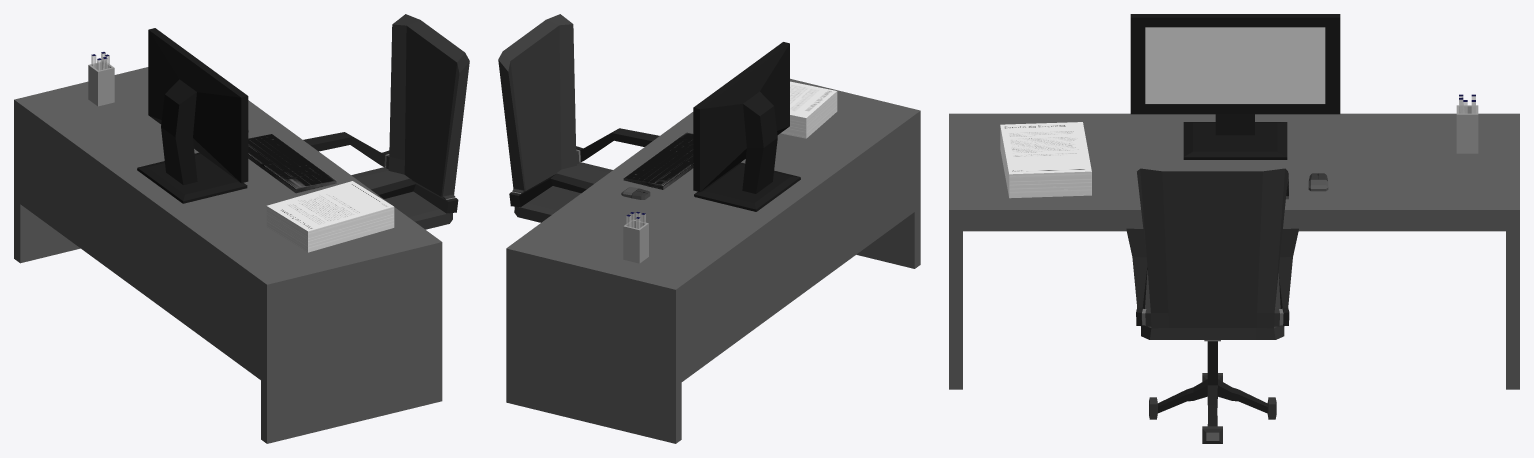
File: MainCarteira(Escritório).glb
3 views of the same model, side by side, from view 1: azimuth 30°, elevation 25°; view 2: azimuth 150°, elevation 25°; view 3: azimuth 270°, elevation 25° (orthographic). The views are drawn at different scales.
Visible parts, largest first — view 1: Desk-convcol, Chair-convcol, Monitor, Paper_Pile, Keyboard, Pencil_Cup; view 2: Desk-convcol, Chair-convcol, Monitor, Keyboard, Paper_Pile, Pencil_Cup; view 3: Desk-convcol, Chair-convcol, Screen, Monitor, Paper_Pile, Pencil_Cup.
Boxes of the visible parts, <box> form: Desk-convcol: <box>14,67,442,443</box>; Chair-convcol: <box>303,14,469,229</box>; Monitor: <box>137,28,248,203</box>; Paper_Pile: <box>266,181,394,252</box>; Keyboard: <box>248,134,336,193</box>; Pencil_Cup: <box>88,52,114,106</box>; Desk-convcol: <box>506,78,920,443</box>; Chair-convcol: <box>498,14,659,222</box>; Monitor: <box>693,42,800,211</box>; Keyboard: <box>623,132,693,189</box>; Paper_Pile: <box>780,81,837,138</box>; Pencil_Cup: <box>623,212,648,263</box>; Desk-convcol: <box>949,113,1519,389</box>; Chair-convcol: <box>1126,168,1298,443</box>; Screen: <box>1145,27,1325,103</box>; Monitor: <box>1130,14,1340,159</box>; Paper_Pile: <box>1000,122,1091,198</box>; Pencil_Cup: <box>1456,94,1478,153</box>.
Size of the model in its own units: 1.67 by 1.5 by 2.5.
16 materials, 2 textured.
